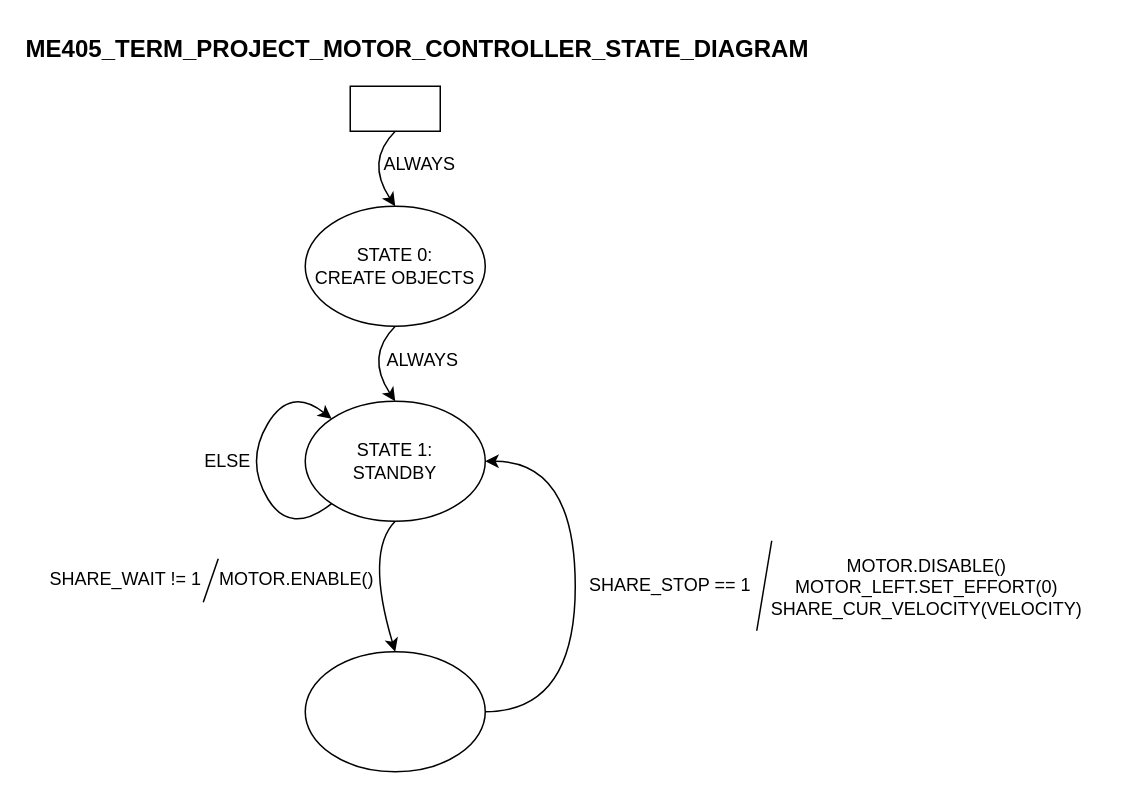
The diagram is 1124 pixels wide and 798 high, and some of its shapes have lost their labels. The shapes that lost their labels are listed below. From the top down, each one's box as (x1, y1, x2, y2) in pixels, then its label:
(349, 85, 440, 131): START
(304, 650, 485, 772): STATE 2: RUN
